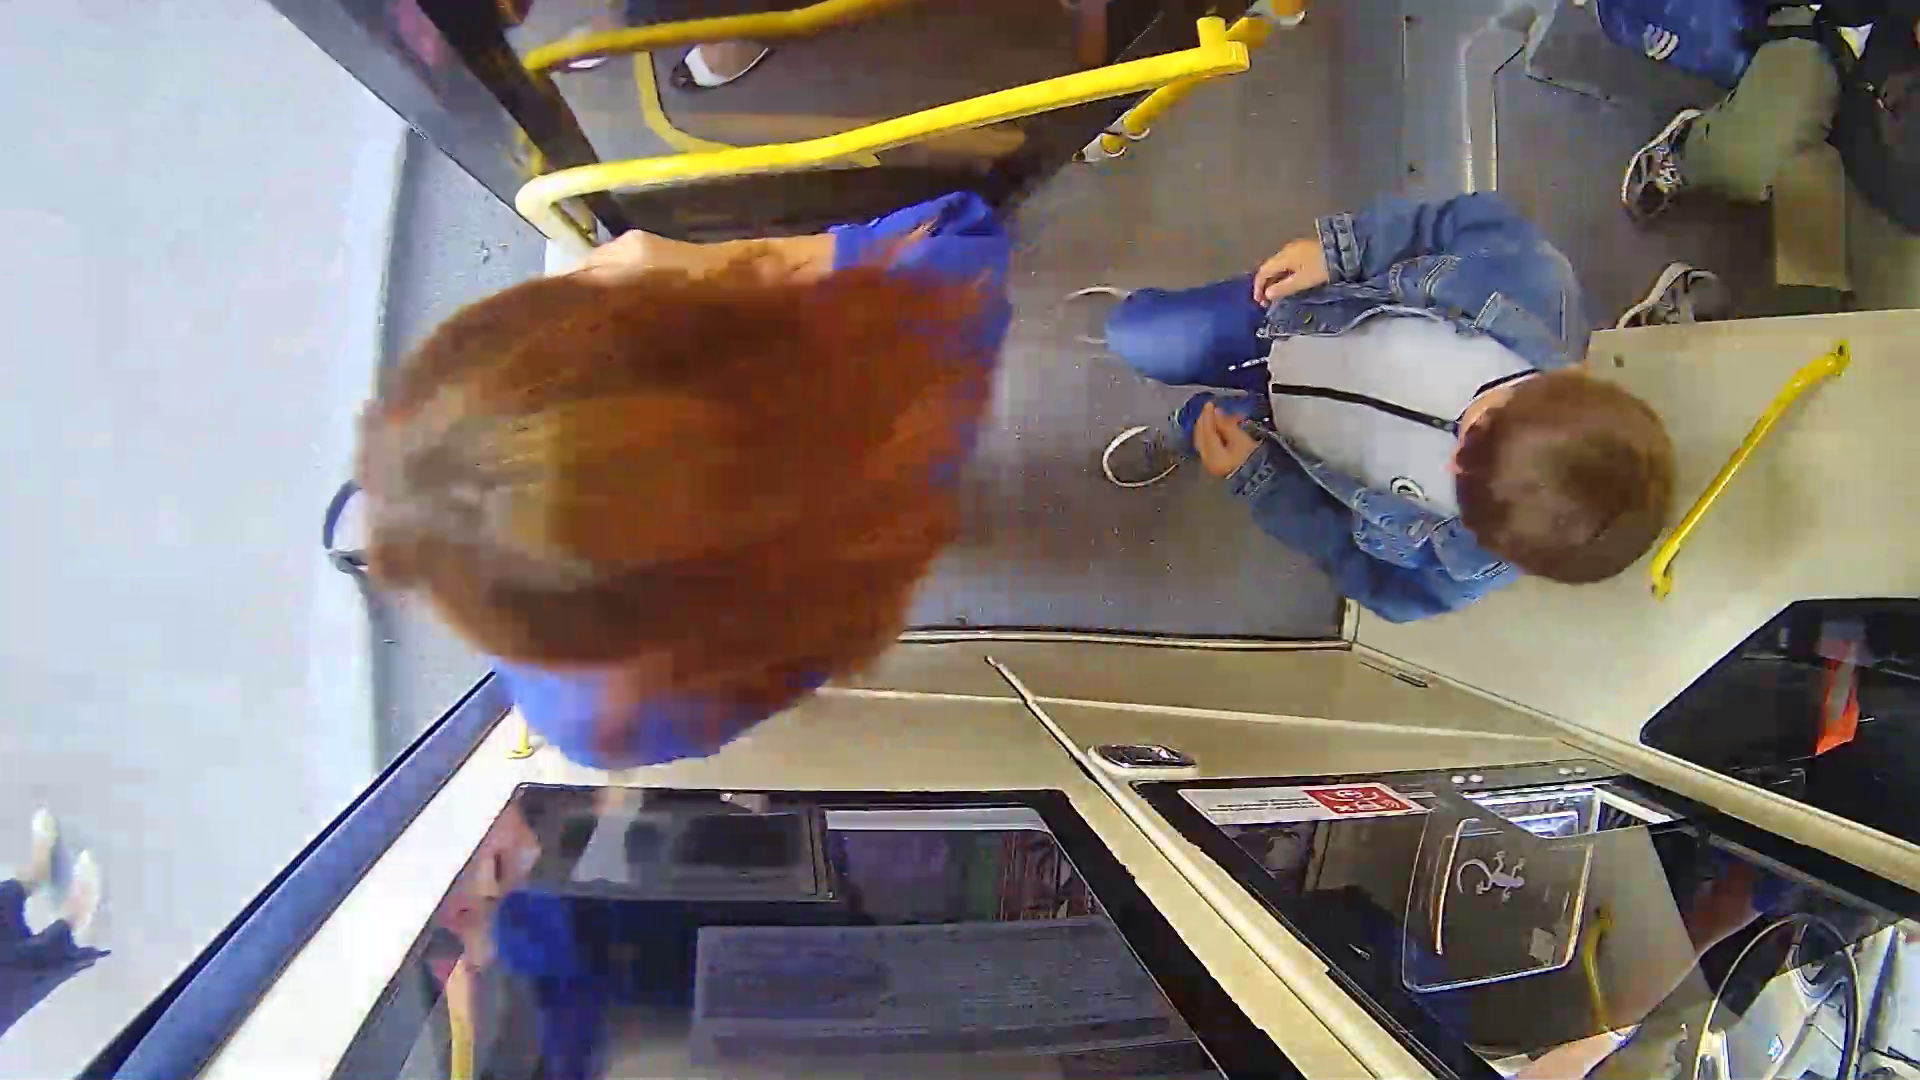person: (354, 197, 1010, 788), (1142, 232, 1663, 658)
